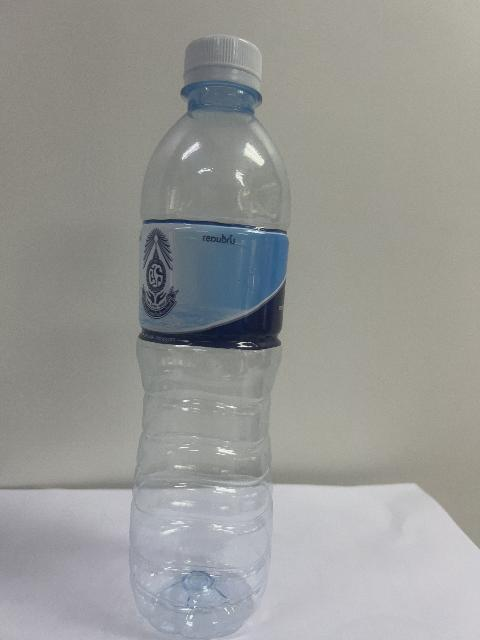bottle: (129, 36, 289, 639)
